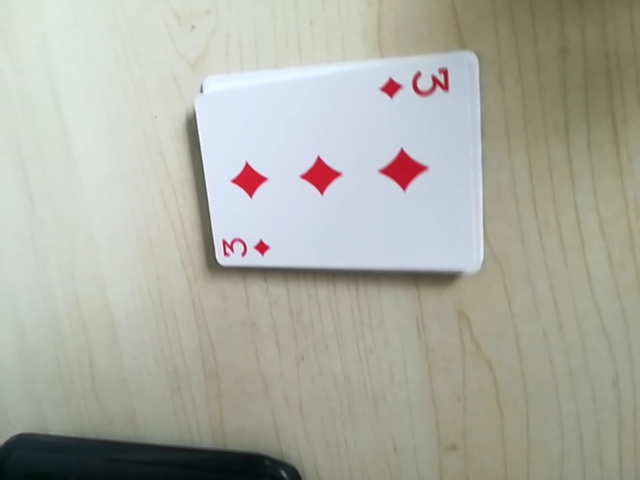fk 3: (376, 58, 459, 107), (216, 231, 273, 261)
